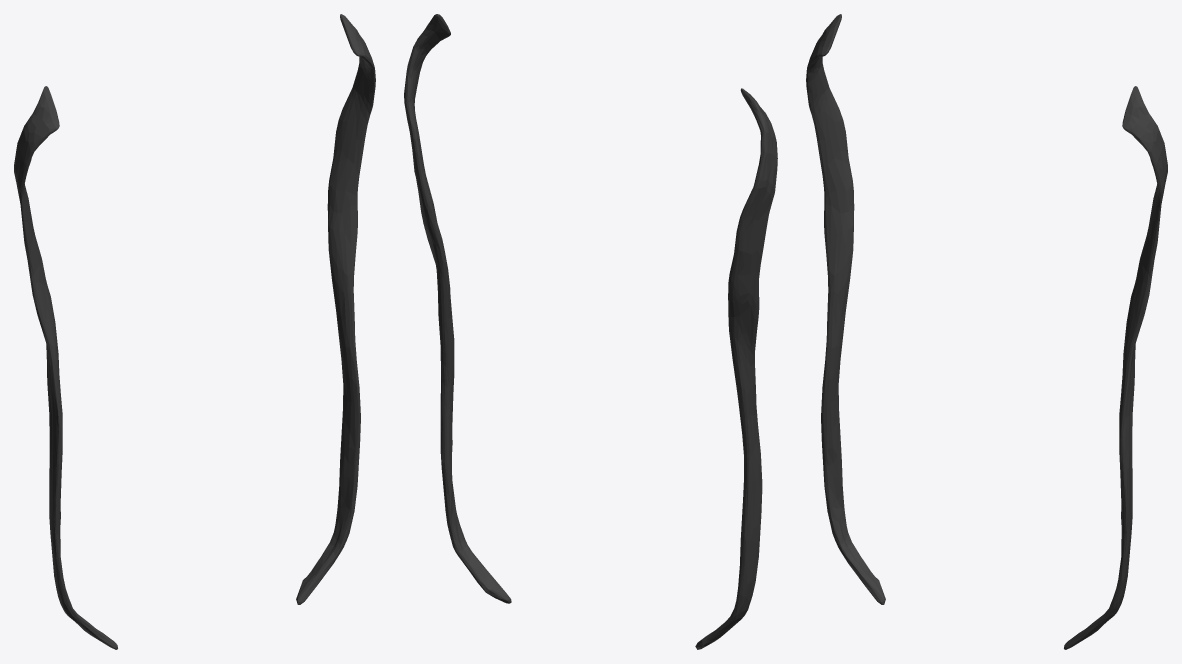
File: m_abductor_cruris_caudalis.glb
The picture shows the model from 3 angles, left to right: view 1: azimuth 30°, elevation 25°; view 2: azimuth 150°, elevation 25°; view 3: azimuth 330°, elevation 25°; orthographic projection. The views are drawn at different scales.
Parts seen in each view (by area): view 1: m_abductor_cruris_caudalis; view 2: m_abductor_cruris_caudalis; view 3: m_abductor_cruris_caudalis.
Boxes of the visible parts, <box> form: m_abductor_cruris_caudalis: <box>14,14,375,649</box>; m_abductor_cruris_caudalis: <box>404,14,777,649</box>; m_abductor_cruris_caudalis: <box>806,14,1167,649</box>.
Size of the model in its own units: 0.00556 by 0.00852 by 0.000759.
Materials: 1 (1 with a texture image).
